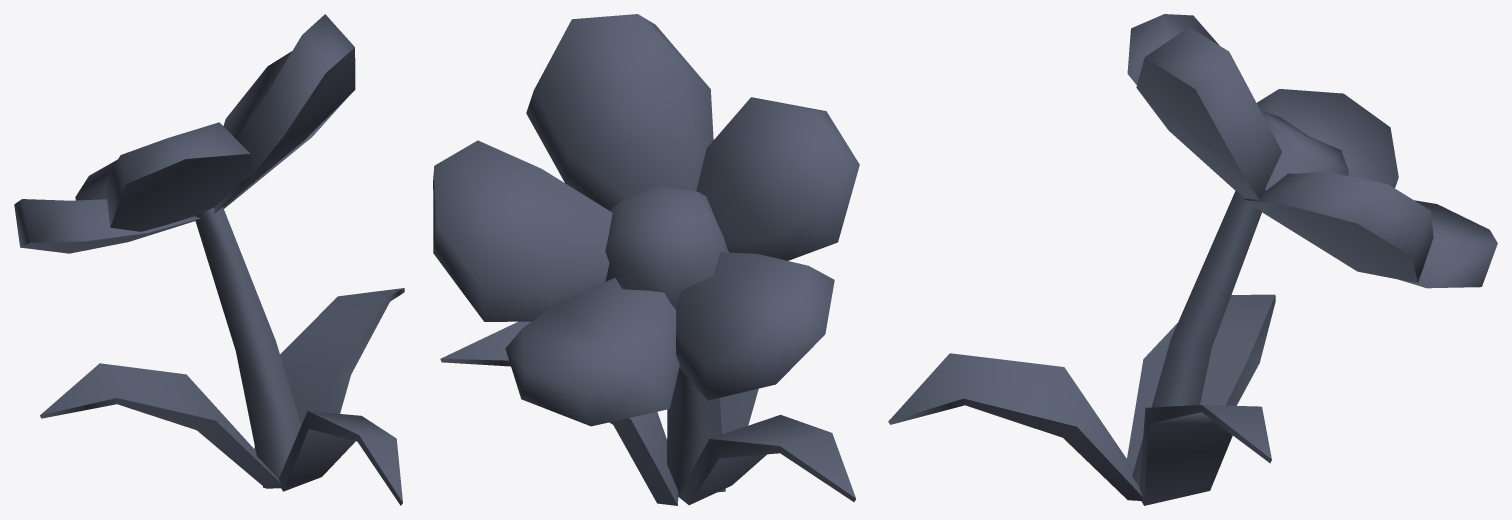
File: Flower.FBX
3 views of the same model, side by side, from view 1: azimuth 30°, elevation 25°; view 2: azimuth 150°, elevation 25°; view 3: azimuth 270°, elevation 25° (orthographic). The views are drawn at different scales.
Parts seen in each view (by area): view 1: Flower; view 2: Flower; view 3: Flower.
Part boxes in pixels (box(x1,y1,x2,y2)): Flower: box(14, 14, 404, 505); Flower: box(433, 14, 859, 505); Flower: box(888, 14, 1497, 505).
Bounding box in the file's own units: 44.86 × 49.68 × 56.87.
